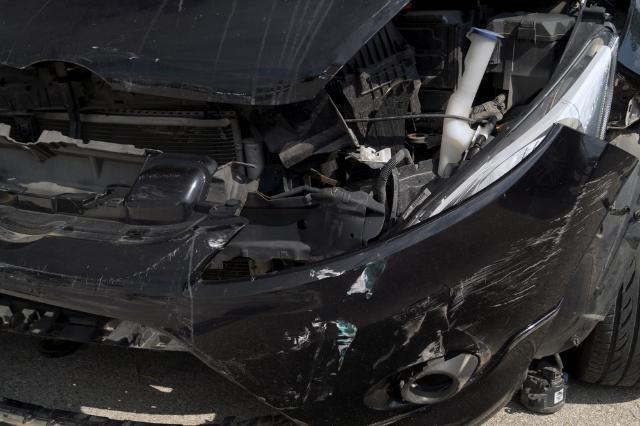scratch: (281, 174, 619, 403), (93, 226, 238, 291)
